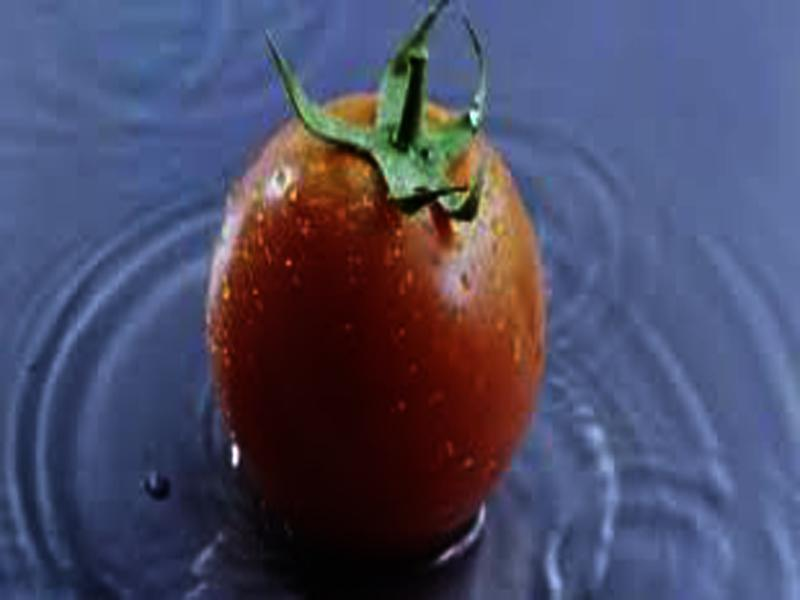Tomato: (211, 96, 544, 560)
